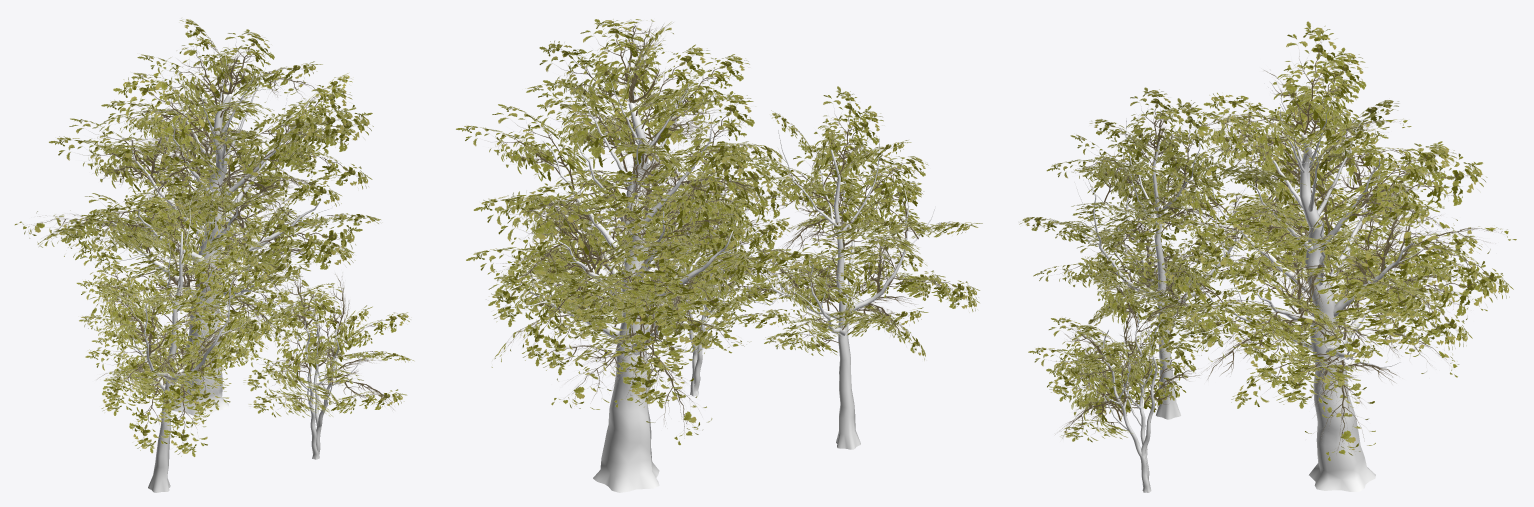
Rendered from oak_tree_classic.glb.
3 renders of one model, left to right at view 1: azimuth 30°, elevation 25°; view 2: azimuth 150°, elevation 25°; view 3: azimuth 270°, elevation 25°, orthographic. The views are drawn at different scales.
Visible parts, largest first — view 1: treelarge, Treemedium, leafplanes_4_23, leafplanes_4_7, leafplanes_4_39, leafplanes_10_3, leafplanes_4_13_2, Treesmall, leafplanes_4_13_3_40_2, leafplanes_3, leafplanes_5, leafplanes_4_13_3_67 (+80 smaller); view 2: treelarge, Treemedium, leafplanes_10_195, leafplanes_10_177, leafplanes_4_13, leafplanes_4_38, leafplanes_10_108, leafplanes_10_117, leafplanes_10_9, leafplanes_4_6, leafplanes_4_55, leafplanes_4_58 (+82 smaller); view 3: treelarge, Treemedium, leafplanes_4_13_3, Treesmall, leafplanes_4_60, leafplanes_4_13_1, leafplanes_4_52, leafplanes_10_93_1, leafplanes_10_78, leafplanes_4_37, leafplanes_10_114, leafplanes_4_41 (+84 smaller).
Part boxes in pixels (x1=…): treelarge: x1=80, y1=53, x2=338, y2=416; Treemedium: x1=123, y1=189, x2=255, y2=492; leafplanes_4_23: x1=113, y1=77, x2=214, y2=156; leafplanes_4_7: x1=260, y1=212, x2=362, y2=266; leafplanes_4_39: x1=222, y1=102, x2=326, y2=169; leafplanes_10_3: x1=152, y1=150, x2=221, y2=217; leafplanes_4_13_2: x1=207, y1=29, x2=274, y2=93; Treesmall: x1=288, y1=292, x2=374, y2=459; leafplanes_4_13_3_40_2: x1=156, y1=384, x2=212, y2=457; leafplanes_3: x1=66, y1=195, x2=169, y2=249; leafplanes_5: x1=53, y1=211, x2=155, y2=252; leafplanes_4_13_3_67: x1=128, y1=377, x2=181, y2=453; treelarge: x1=486, y1=56, x2=760, y2=492; Treemedium: x1=740, y1=130, x2=935, y2=449; leafplanes_10_195: x1=616, y1=325, x2=693, y2=408; leafplanes_10_177: x1=491, y1=243, x2=578, y2=326; leafplanes_4_13: x1=580, y1=19, x2=661, y2=99; leafplanes_4_38: x1=631, y1=271, x2=731, y2=353; leafplanes_10_108: x1=598, y1=165, x2=676, y2=237; leafplanes_10_117: x1=521, y1=277, x2=607, y2=366; leafplanes_10_9: x1=663, y1=148, x2=751, y2=232; leafplanes_4_6: x1=494, y1=190, x2=611, y2=287; leafplanes_4_55: x1=538, y1=78, x2=635, y2=171; leafplanes_4_58: x1=492, y1=104, x2=587, y2=189; treelarge: x1=1174, y1=87, x2=1435, y2=491; Treemedium: x1=1074, y1=118, x2=1237, y2=419; leafplanes_4_13_3: x1=1272, y1=21, x2=1348, y2=134; Treesmall: x1=1087, y1=311, x2=1162, y2=492; leafplanes_4_60: x1=1343, y1=144, x2=1455, y2=211; leafplanes_4_13_1: x1=1288, y1=47, x2=1367, y2=139; leafplanes_4_52: x1=1367, y1=153, x2=1487, y2=224; leafplanes_10_93_1: x1=1203, y1=92, x2=1304, y2=165; leafplanes_10_78: x1=1230, y1=232, x2=1310, y2=300; leafplanes_4_37: x1=1273, y1=355, x2=1361, y2=408; leafplanes_10_114: x1=1195, y1=207, x2=1280, y2=278; leafplanes_4_41: x1=1389, y1=261, x2=1501, y2=326.
Size of the model in its own units: 7.52 by 7.79 by 7.93.
2 materials, 1 textured.
